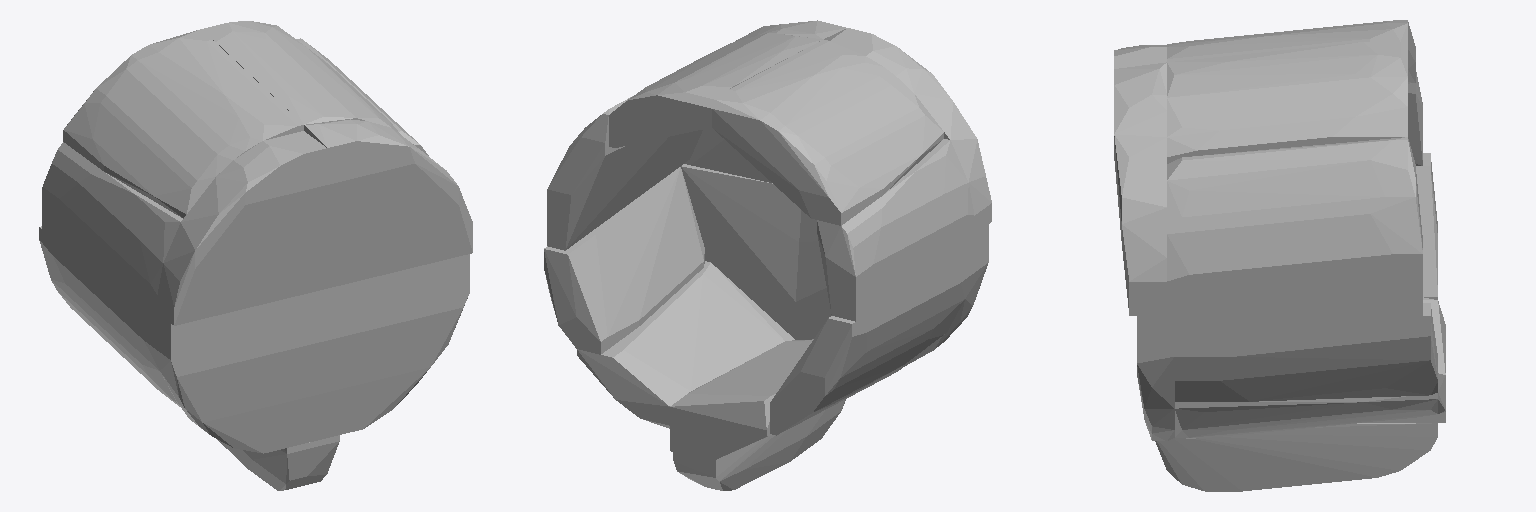
URDF robot description (root):
<robot name="root">
  <link name="link_a8f7a0edd3edc3299e54b4084dc33544_convex_piece_0">
    <inertial>
      <origin rpy="0 0 0" xyz="0 0 0"/>
      <mass value="7.45E-07"/>
      <inertia ixx="4.67E-10" ixy="-1.20E-12" ixz="6.00E-13" iyy="4.14E-10" iyz="-4.69E-12" izz="5.86E-11"/>
    </inertial>
    <visual>
      <origin rpy="0 0 0" xyz="0 0 0"/>
      <geometry>
        <mesh filename="a8f7a0edd3edc3299e54b4084dc33544_convex_piece_0.obj" scale="1.0000E+00"/>
      </geometry>
      <material name="">
        <color rgba="7.50E-01 7.50E-01 7.50E-01 1"/>
      </material>
    </visual>
    <collision>
      <origin rpy="0 0 0" xyz="0 0 0"/>
      <geometry>
        <mesh filename="a8f7a0edd3edc3299e54b4084dc33544_convex_piece_0.obj" scale="1.0000E+00"/>
      </geometry>
    </collision>
  </link>
  <link name="link_a8f7a0edd3edc3299e54b4084dc33544_convex_piece_1">
    <inertial>
      <origin rpy="0 0 0" xyz="0 0 0"/>
      <mass value="8.66E-07"/>
      <inertia ixx="2.44E-10" ixy="1.13E-10" ixz="4.18E-11" iyy="1.76E-10" iyz="8.52E-11" izz="2.94E-10"/>
    </inertial>
    <visual>
      <origin rpy="0 0 0" xyz="0 0 0"/>
      <geometry>
        <mesh filename="a8f7a0edd3edc3299e54b4084dc33544_convex_piece_1.obj" scale="1.0000E+00"/>
      </geometry>
      <material name="">
        <color rgba="7.50E-01 7.50E-01 7.50E-01 1"/>
      </material>
    </visual>
    <collision>
      <origin rpy="0 0 0" xyz="0 0 0"/>
      <geometry>
        <mesh filename="a8f7a0edd3edc3299e54b4084dc33544_convex_piece_1.obj" scale="1.0000E+00"/>
      </geometry>
    </collision>
  </link>
  <joint name="link_a8f7a0edd3edc3299e54b4084dc33544_convex_piece_1_joint" type="fixed">
    <origin rpy="0 0 0" xyz="0 0 0"/>
    <parent link="link_a8f7a0edd3edc3299e54b4084dc33544_convex_piece_0"/>
    <child link="link_a8f7a0edd3edc3299e54b4084dc33544_convex_piece_1"/>
  </joint>
  <link name="link_a8f7a0edd3edc3299e54b4084dc33544_convex_piece_2">
    <inertial>
      <origin rpy="0 0 0" xyz="0 0 0"/>
      <mass value="6.30E-07"/>
      <inertia ixx="1.74E-10" ixy="-1.13E-10" ixz="-3.92E-11" iyy="1.52E-10" iyz="5.88E-11" izz="2.42E-10"/>
    </inertial>
    <visual>
      <origin rpy="0 0 0" xyz="0 0 0"/>
      <geometry>
        <mesh filename="a8f7a0edd3edc3299e54b4084dc33544_convex_piece_2.obj" scale="1.0000E+00"/>
      </geometry>
      <material name="">
        <color rgba="7.50E-01 7.50E-01 7.50E-01 1"/>
      </material>
    </visual>
    <collision>
      <origin rpy="0 0 0" xyz="0 0 0"/>
      <geometry>
        <mesh filename="a8f7a0edd3edc3299e54b4084dc33544_convex_piece_2.obj" scale="1.0000E+00"/>
      </geometry>
    </collision>
  </link>
  <joint name="link_a8f7a0edd3edc3299e54b4084dc33544_convex_piece_2_joint" type="fixed">
    <origin rpy="0 0 0" xyz="0 0 0"/>
    <parent link="link_a8f7a0edd3edc3299e54b4084dc33544_convex_piece_1"/>
    <child link="link_a8f7a0edd3edc3299e54b4084dc33544_convex_piece_2"/>
  </joint>
  <link name="link_a8f7a0edd3edc3299e54b4084dc33544_convex_piece_3">
    <inertial>
      <origin rpy="0 0 0" xyz="0 0 0"/>
      <mass value="8.97E-07"/>
      <inertia ixx="4.24E-10" ixy="1.44E-10" ixz="-1.11E-10" iyy="3.12E-10" iyz="-1.94E-10" izz="3.53E-10"/>
    </inertial>
    <visual>
      <origin rpy="0 0 0" xyz="0 0 0"/>
      <geometry>
        <mesh filename="a8f7a0edd3edc3299e54b4084dc33544_convex_piece_3.obj" scale="1.0000E+00"/>
      </geometry>
      <material name="">
        <color rgba="7.50E-01 7.50E-01 7.50E-01 1"/>
      </material>
    </visual>
    <collision>
      <origin rpy="0 0 0" xyz="0 0 0"/>
      <geometry>
        <mesh filename="a8f7a0edd3edc3299e54b4084dc33544_convex_piece_3.obj" scale="1.0000E+00"/>
      </geometry>
    </collision>
  </link>
  <joint name="link_a8f7a0edd3edc3299e54b4084dc33544_convex_piece_3_joint" type="fixed">
    <origin rpy="0 0 0" xyz="0 0 0"/>
    <parent link="link_a8f7a0edd3edc3299e54b4084dc33544_convex_piece_2"/>
    <child link="link_a8f7a0edd3edc3299e54b4084dc33544_convex_piece_3"/>
  </joint>
  <link name="link_a8f7a0edd3edc3299e54b4084dc33544_convex_piece_4">
    <inertial>
      <origin rpy="0 0 0" xyz="0 0 0"/>
      <mass value="9.52E-07"/>
      <inertia ixx="4.55E-10" ixy="-1.46E-10" ixz="1.14E-10" iyy="3.28E-10" iyz="-2.08E-10" izz="3.67E-10"/>
    </inertial>
    <visual>
      <origin rpy="0 0 0" xyz="0 0 0"/>
      <geometry>
        <mesh filename="a8f7a0edd3edc3299e54b4084dc33544_convex_piece_4.obj" scale="1.0000E+00"/>
      </geometry>
      <material name="">
        <color rgba="7.50E-01 7.50E-01 7.50E-01 1"/>
      </material>
    </visual>
    <collision>
      <origin rpy="0 0 0" xyz="0 0 0"/>
      <geometry>
        <mesh filename="a8f7a0edd3edc3299e54b4084dc33544_convex_piece_4.obj" scale="1.0000E+00"/>
      </geometry>
    </collision>
  </link>
  <joint name="link_a8f7a0edd3edc3299e54b4084dc33544_convex_piece_4_joint" type="fixed">
    <origin rpy="0 0 0" xyz="0 0 0"/>
    <parent link="link_a8f7a0edd3edc3299e54b4084dc33544_convex_piece_3"/>
    <child link="link_a8f7a0edd3edc3299e54b4084dc33544_convex_piece_4"/>
  </joint>
  <link name="link_a8f7a0edd3edc3299e54b4084dc33544_convex_piece_5">
    <inertial>
      <origin rpy="0 0 0" xyz="0 0 0"/>
      <mass value="1.53E-06"/>
      <inertia ixx="2.03E-10" ixy="-6.49E-11" ixz="1.42E-10" iyy="5.52E-10" iyz="-7.06E-12" izz="5.89E-10"/>
    </inertial>
    <visual>
      <origin rpy="0 0 0" xyz="0 0 0"/>
      <geometry>
        <mesh filename="a8f7a0edd3edc3299e54b4084dc33544_convex_piece_5.obj" scale="1.0000E+00"/>
      </geometry>
      <material name="">
        <color rgba="7.50E-01 7.50E-01 7.50E-01 1"/>
      </material>
    </visual>
    <collision>
      <origin rpy="0 0 0" xyz="0 0 0"/>
      <geometry>
        <mesh filename="a8f7a0edd3edc3299e54b4084dc33544_convex_piece_5.obj" scale="1.0000E+00"/>
      </geometry>
    </collision>
  </link>
  <joint name="link_a8f7a0edd3edc3299e54b4084dc33544_convex_piece_5_joint" type="fixed">
    <origin rpy="0 0 0" xyz="0 0 0"/>
    <parent link="link_a8f7a0edd3edc3299e54b4084dc33544_convex_piece_4"/>
    <child link="link_a8f7a0edd3edc3299e54b4084dc33544_convex_piece_5"/>
  </joint>
  <link name="link_a8f7a0edd3edc3299e54b4084dc33544_convex_piece_6">
    <inertial>
      <origin rpy="0 0 0" xyz="0 0 0"/>
      <mass value="1.21E-06"/>
      <inertia ixx="4.27E-10" ixy="-2.23E-11" ixz="7.92E-11" iyy="3.48E-10" iyz="-7.49E-11" izz="1.60E-10"/>
    </inertial>
    <visual>
      <origin rpy="0 0 0" xyz="0 0 0"/>
      <geometry>
        <mesh filename="a8f7a0edd3edc3299e54b4084dc33544_convex_piece_6.obj" scale="1.0000E+00"/>
      </geometry>
      <material name="">
        <color rgba="7.50E-01 7.50E-01 7.50E-01 1"/>
      </material>
    </visual>
    <collision>
      <origin rpy="0 0 0" xyz="0 0 0"/>
      <geometry>
        <mesh filename="a8f7a0edd3edc3299e54b4084dc33544_convex_piece_6.obj" scale="1.0000E+00"/>
      </geometry>
    </collision>
  </link>
  <joint name="link_a8f7a0edd3edc3299e54b4084dc33544_convex_piece_6_joint" type="fixed">
    <origin rpy="0 0 0" xyz="0 0 0"/>
    <parent link="link_a8f7a0edd3edc3299e54b4084dc33544_convex_piece_5"/>
    <child link="link_a8f7a0edd3edc3299e54b4084dc33544_convex_piece_6"/>
  </joint>
  <link name="link_a8f7a0edd3edc3299e54b4084dc33544_convex_piece_7">
    <inertial>
      <origin rpy="0 0 0" xyz="0 0 0"/>
      <mass value="1.10E-06"/>
      <inertia ixx="2.98E-10" ixy="2.23E-11" ixz="-1.47E-10" iyy="3.44E-10" iyz="-2.63E-11" izz="2.27E-10"/>
    </inertial>
    <visual>
      <origin rpy="0 0 0" xyz="0 0 0"/>
      <geometry>
        <mesh filename="a8f7a0edd3edc3299e54b4084dc33544_convex_piece_7.obj" scale="1.0000E+00"/>
      </geometry>
      <material name="">
        <color rgba="7.50E-01 7.50E-01 7.50E-01 1"/>
      </material>
    </visual>
    <collision>
      <origin rpy="0 0 0" xyz="0 0 0"/>
      <geometry>
        <mesh filename="a8f7a0edd3edc3299e54b4084dc33544_convex_piece_7.obj" scale="1.0000E+00"/>
      </geometry>
    </collision>
  </link>
  <joint name="link_a8f7a0edd3edc3299e54b4084dc33544_convex_piece_7_joint" type="fixed">
    <origin rpy="0 0 0" xyz="0 0 0"/>
    <parent link="link_a8f7a0edd3edc3299e54b4084dc33544_convex_piece_6"/>
    <child link="link_a8f7a0edd3edc3299e54b4084dc33544_convex_piece_7"/>
  </joint>
  <link name="link_a8f7a0edd3edc3299e54b4084dc33544_convex_piece_8">
    <inertial>
      <origin rpy="0 0 0" xyz="0 0 0"/>
      <mass value="8.71E-07"/>
      <inertia ixx="8.68E-11" ixy="5.43E-11" ixz="-4.76E-11" iyy="3.37E-10" iyz="-4.11E-12" izz="3.96E-10"/>
    </inertial>
    <visual>
      <origin rpy="0 0 0" xyz="0 0 0"/>
      <geometry>
        <mesh filename="a8f7a0edd3edc3299e54b4084dc33544_convex_piece_8.obj" scale="1.0000E+00"/>
      </geometry>
      <material name="">
        <color rgba="7.50E-01 7.50E-01 7.50E-01 1"/>
      </material>
    </visual>
    <collision>
      <origin rpy="0 0 0" xyz="0 0 0"/>
      <geometry>
        <mesh filename="a8f7a0edd3edc3299e54b4084dc33544_convex_piece_8.obj" scale="1.0000E+00"/>
      </geometry>
    </collision>
  </link>
  <joint name="link_a8f7a0edd3edc3299e54b4084dc33544_convex_piece_8_joint" type="fixed">
    <origin rpy="0 0 0" xyz="0 0 0"/>
    <parent link="link_a8f7a0edd3edc3299e54b4084dc33544_convex_piece_7"/>
    <child link="link_a8f7a0edd3edc3299e54b4084dc33544_convex_piece_8"/>
  </joint>
  <link name="link_a8f7a0edd3edc3299e54b4084dc33544_convex_piece_9">
    <inertial>
      <origin rpy="0 0 0" xyz="0 0 0"/>
      <mass value="8.91E-07"/>
      <inertia ixx="1.60E-10" ixy="-2.79E-11" ixz="-1.73E-10" iyy="4.39E-10" iyz="1.73E-11" izz="4.03E-10"/>
    </inertial>
    <visual>
      <origin rpy="0 0 0" xyz="0 0 0"/>
      <geometry>
        <mesh filename="a8f7a0edd3edc3299e54b4084dc33544_convex_piece_9.obj" scale="1.0000E+00"/>
      </geometry>
      <material name="">
        <color rgba="7.50E-01 7.50E-01 7.50E-01 1"/>
      </material>
    </visual>
    <collision>
      <origin rpy="0 0 0" xyz="0 0 0"/>
      <geometry>
        <mesh filename="a8f7a0edd3edc3299e54b4084dc33544_convex_piece_9.obj" scale="1.0000E+00"/>
      </geometry>
    </collision>
  </link>
  <joint name="link_a8f7a0edd3edc3299e54b4084dc33544_convex_piece_9_joint" type="fixed">
    <origin rpy="0 0 0" xyz="0 0 0"/>
    <parent link="link_a8f7a0edd3edc3299e54b4084dc33544_convex_piece_8"/>
    <child link="link_a8f7a0edd3edc3299e54b4084dc33544_convex_piece_9"/>
  </joint>
  <link name="link_a8f7a0edd3edc3299e54b4084dc33544_convex_piece_10">
    <inertial>
      <origin rpy="0 0 0" xyz="0 0 0"/>
      <mass value="1.45E-06"/>
      <inertia ixx="7.92E-10" ixy="-3.45E-11" ixz="-2.91E-10" iyy="8.69E-10" iyz="7.48E-11" izz="2.67E-10"/>
    </inertial>
    <visual>
      <origin rpy="0 0 0" xyz="0 0 0"/>
      <geometry>
        <mesh filename="a8f7a0edd3edc3299e54b4084dc33544_convex_piece_10.obj" scale="1.0000E+00"/>
      </geometry>
      <material name="">
        <color rgba="7.50E-01 7.50E-01 7.50E-01 1"/>
      </material>
    </visual>
    <collision>
      <origin rpy="0 0 0" xyz="0 0 0"/>
      <geometry>
        <mesh filename="a8f7a0edd3edc3299e54b4084dc33544_convex_piece_10.obj" scale="1.0000E+00"/>
      </geometry>
    </collision>
  </link>
  <joint name="link_a8f7a0edd3edc3299e54b4084dc33544_convex_piece_10_joint" type="fixed">
    <origin rpy="0 0 0" xyz="0 0 0"/>
    <parent link="link_a8f7a0edd3edc3299e54b4084dc33544_convex_piece_9"/>
    <child link="link_a8f7a0edd3edc3299e54b4084dc33544_convex_piece_10"/>
  </joint>
  <link name="link_a8f7a0edd3edc3299e54b4084dc33544_convex_piece_11">
    <inertial>
      <origin rpy="0 0 0" xyz="0 0 0"/>
      <mass value="1.16E-06"/>
      <inertia ixx="6.86E-10" ixy="6.81E-12" ixz="1.94E-10" iyy="7.01E-10" iyz="4.19E-11" izz="1.56E-10"/>
    </inertial>
    <visual>
      <origin rpy="0 0 0" xyz="0 0 0"/>
      <geometry>
        <mesh filename="a8f7a0edd3edc3299e54b4084dc33544_convex_piece_11.obj" scale="1.0000E+00"/>
      </geometry>
      <material name="">
        <color rgba="7.50E-01 7.50E-01 7.50E-01 1"/>
      </material>
    </visual>
    <collision>
      <origin rpy="0 0 0" xyz="0 0 0"/>
      <geometry>
        <mesh filename="a8f7a0edd3edc3299e54b4084dc33544_convex_piece_11.obj" scale="1.0000E+00"/>
      </geometry>
    </collision>
  </link>
  <joint name="link_a8f7a0edd3edc3299e54b4084dc33544_convex_piece_11_joint" type="fixed">
    <origin rpy="0 0 0" xyz="0 0 0"/>
    <parent link="link_a8f7a0edd3edc3299e54b4084dc33544_convex_piece_10"/>
    <child link="link_a8f7a0edd3edc3299e54b4084dc33544_convex_piece_11"/>
  </joint>
  <link name="link_a8f7a0edd3edc3299e54b4084dc33544_convex_piece_12">
    <inertial>
      <origin rpy="0 0 0" xyz="0 0 0"/>
      <mass value="1.10E-06"/>
      <inertia ixx="2.66E-10" ixy="4.29E-11" ixz="2.52E-10" iyy="5.84E-10" iyz="3.95E-11" izz="4.77E-10"/>
    </inertial>
    <visual>
      <origin rpy="0 0 0" xyz="0 0 0"/>
      <geometry>
        <mesh filename="a8f7a0edd3edc3299e54b4084dc33544_convex_piece_12.obj" scale="1.0000E+00"/>
      </geometry>
      <material name="">
        <color rgba="7.50E-01 7.50E-01 7.50E-01 1"/>
      </material>
    </visual>
    <collision>
      <origin rpy="0 0 0" xyz="0 0 0"/>
      <geometry>
        <mesh filename="a8f7a0edd3edc3299e54b4084dc33544_convex_piece_12.obj" scale="1.0000E+00"/>
      </geometry>
    </collision>
  </link>
  <joint name="link_a8f7a0edd3edc3299e54b4084dc33544_convex_piece_12_joint" type="fixed">
    <origin rpy="0 0 0" xyz="0 0 0"/>
    <parent link="link_a8f7a0edd3edc3299e54b4084dc33544_convex_piece_11"/>
    <child link="link_a8f7a0edd3edc3299e54b4084dc33544_convex_piece_12"/>
  </joint>
</robot>

--- What the picture shows (computed from the rendered views, not written in the file) ---
3 views of the same robot in one strip: view 1: azimuth 30°, elevation 25°; view 2: azimuth 150°, elevation 25°; view 3: azimuth 270°, elevation 25° (orthographic).
Robot: root — 13 links, 12 joints (12 fixed); root link link_a8f7a0edd3edc3299e54b4084dc33544_convex_piece_0; default pose: every joint at zero.
Visible links, largest first — view 1: link_a8f7a0edd3edc3299e54b4084dc33544_convex_piece_10, link_a8f7a0edd3edc3299e54b4084dc33544_convex_piece_1, link_a8f7a0edd3edc3299e54b4084dc33544_convex_piece_3, link_a8f7a0edd3edc3299e54b4084dc33544_convex_piece_4, link_a8f7a0edd3edc3299e54b4084dc33544_convex_piece_2, link_a8f7a0edd3edc3299e54b4084dc33544_convex_piece_9, link_a8f7a0edd3edc3299e54b4084dc33544_convex_piece_11, link_a8f7a0edd3edc3299e54b4084dc33544_convex_piece_5, link_a8f7a0edd3edc3299e54b4084dc33544_convex_piece_0, link_a8f7a0edd3edc3299e54b4084dc33544_convex_piece_12; view 2: link_a8f7a0edd3edc3299e54b4084dc33544_convex_piece_10, link_a8f7a0edd3edc3299e54b4084dc33544_convex_piece_8, link_a8f7a0edd3edc3299e54b4084dc33544_convex_piece_7, link_a8f7a0edd3edc3299e54b4084dc33544_convex_piece_9, link_a8f7a0edd3edc3299e54b4084dc33544_convex_piece_5, link_a8f7a0edd3edc3299e54b4084dc33544_convex_piece_2, link_a8f7a0edd3edc3299e54b4084dc33544_convex_piece_12, link_a8f7a0edd3edc3299e54b4084dc33544_convex_piece_11, link_a8f7a0edd3edc3299e54b4084dc33544_convex_piece_6, link_a8f7a0edd3edc3299e54b4084dc33544_convex_piece_3, link_a8f7a0edd3edc3299e54b4084dc33544_convex_piece_0, link_a8f7a0edd3edc3299e54b4084dc33544_convex_piece_1 (+1 smaller); view 3: link_a8f7a0edd3edc3299e54b4084dc33544_convex_piece_12, link_a8f7a0edd3edc3299e54b4084dc33544_convex_piece_11, link_a8f7a0edd3edc3299e54b4084dc33544_convex_piece_8, link_a8f7a0edd3edc3299e54b4084dc33544_convex_piece_0, link_a8f7a0edd3edc3299e54b4084dc33544_convex_piece_4, link_a8f7a0edd3edc3299e54b4084dc33544_convex_piece_7, link_a8f7a0edd3edc3299e54b4084dc33544_convex_piece_10, link_a8f7a0edd3edc3299e54b4084dc33544_convex_piece_2, link_a8f7a0edd3edc3299e54b4084dc33544_convex_piece_5, link_a8f7a0edd3edc3299e54b4084dc33544_convex_piece_6, link_a8f7a0edd3edc3299e54b4084dc33544_convex_piece_9, link_a8f7a0edd3edc3299e54b4084dc33544_convex_piece_3.
Link boxes in pixels (<box>): link_a8f7a0edd3edc3299e54b4084dc33544_convex_piece_10: <box>63,30,303,218</box>; link_a8f7a0edd3edc3299e54b4084dc33544_convex_piece_1: <box>154,286,340,453</box>; link_a8f7a0edd3edc3299e54b4084dc33544_convex_piece_3: <box>157,131,326,325</box>; link_a8f7a0edd3edc3299e54b4084dc33544_convex_piece_4: <box>304,119,472,289</box>; link_a8f7a0edd3edc3299e54b4084dc33544_convex_piece_2: <box>334,254,469,435</box>; link_a8f7a0edd3edc3299e54b4084dc33544_convex_piece_9: <box>42,142,182,312</box>; link_a8f7a0edd3edc3299e54b4084dc33544_convex_piece_11: <box>200,21,400,134</box>; link_a8f7a0edd3edc3299e54b4084dc33544_convex_piece_5: <box>39,226,179,406</box>; link_a8f7a0edd3edc3299e54b4084dc33544_convex_piece_0: <box>217,435,339,490</box>; link_a8f7a0edd3edc3299e54b4084dc33544_convex_piece_12: <box>296,38,428,155</box>; link_a8f7a0edd3edc3299e54b4084dc33544_convex_piece_10: <box>712,39,943,225</box>; link_a8f7a0edd3edc3299e54b4084dc33544_convex_piece_8: <box>544,167,704,354</box>; link_a8f7a0edd3edc3299e54b4084dc33544_convex_piece_7: <box>577,261,794,428</box>; link_a8f7a0edd3edc3299e54b4084dc33544_convex_piece_9: <box>817,139,974,321</box>; link_a8f7a0edd3edc3299e54b4084dc33544_convex_piece_5: <box>770,238,970,435</box>; link_a8f7a0edd3edc3299e54b4084dc33544_convex_piece_2: <box>681,164,800,339</box>; link_a8f7a0edd3edc3299e54b4084dc33544_convex_piece_12: <box>547,96,702,250</box>; link_a8f7a0edd3edc3299e54b4084dc33544_convex_piece_11: <box>609,33,822,147</box>; link_a8f7a0edd3edc3299e54b4084dc33544_convex_piece_6: <box>670,339,813,460</box>; link_a8f7a0edd3edc3299e54b4084dc33544_convex_piece_3: <box>831,28,991,233</box>; link_a8f7a0edd3edc3299e54b4084dc33544_convex_piece_0: <box>673,399,845,490</box>; link_a8f7a0edd3edc3299e54b4084dc33544_convex_piece_1: <box>796,210,988,365</box>; link_a8f7a0edd3edc3299e54b4084dc33544_convex_piece_12: <box>1167,137,1422,315</box>; link_a8f7a0edd3edc3299e54b4084dc33544_convex_piece_11: <box>1167,42,1407,163</box>; link_a8f7a0edd3edc3299e54b4084dc33544_convex_piece_8: <box>1175,303,1437,401</box>; link_a8f7a0edd3edc3299e54b4084dc33544_convex_piece_0: <box>1155,423,1437,491</box>; link_a8f7a0edd3edc3299e54b4084dc33544_convex_piece_4: <box>1114,62,1166,315</box>; link_a8f7a0edd3edc3299e54b4084dc33544_convex_piece_7: <box>1175,373,1445,438</box>; link_a8f7a0edd3edc3299e54b4084dc33544_convex_piece_10: <box>1167,20,1415,83</box>; link_a8f7a0edd3edc3299e54b4084dc33544_convex_piece_2: <box>1137,316,1174,440</box>; link_a8f7a0edd3edc3299e54b4084dc33544_convex_piece_5: <box>1416,153,1437,299</box>; link_a8f7a0edd3edc3299e54b4084dc33544_convex_piece_6: <box>1367,297,1445,422</box>; link_a8f7a0edd3edc3299e54b4084dc33544_convex_piece_9: <box>1408,72,1422,165</box>; link_a8f7a0edd3edc3299e54b4084dc33544_convex_piece_3: <box>1114,45,1166,68</box>.
Bounding box of the posed robot: 0.0458 × 0.0395 × 0.0574 m (x, y, z).
13 mesh visuals loaded from 13 distinct referenced files (13 OBJ).